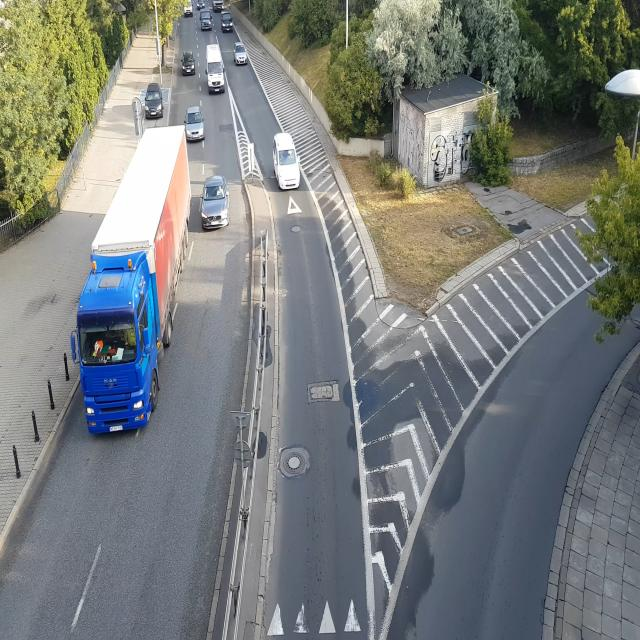car: (270, 128, 302, 195), (197, 177, 232, 232), (204, 42, 228, 102), (142, 80, 166, 120), (185, 106, 207, 145), (180, 49, 198, 76), (235, 43, 251, 70), (199, 8, 215, 32), (221, 13, 236, 35), (184, 2, 195, 17), (196, 0, 206, 11)
truck: (71, 108, 190, 448)
